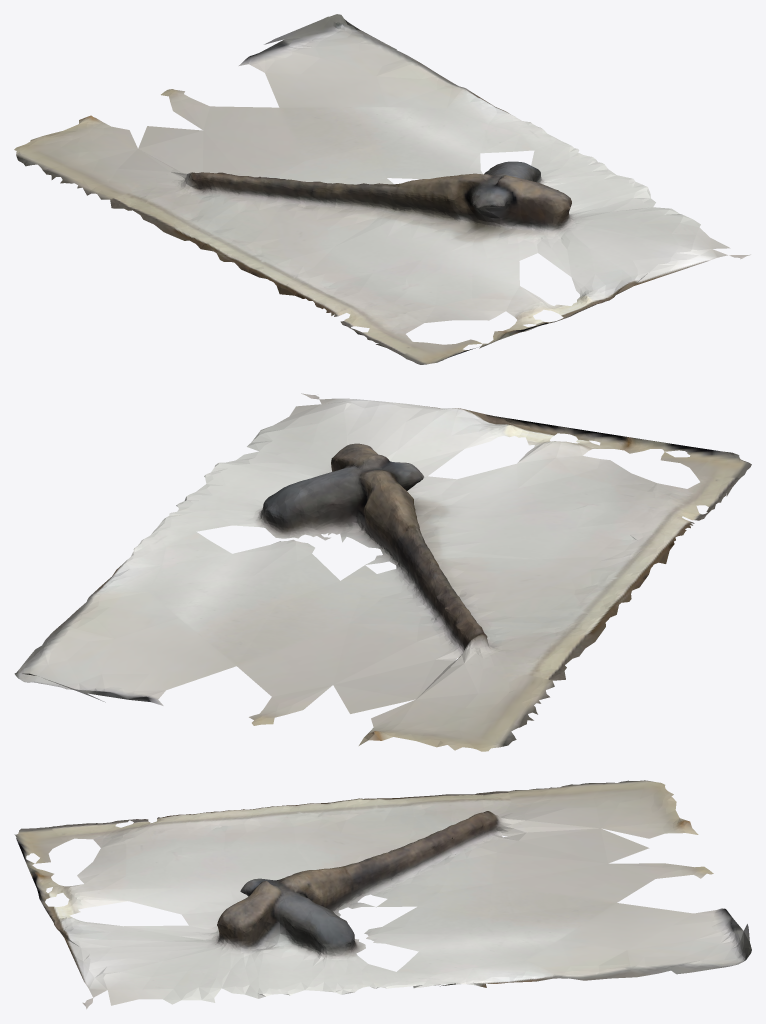
Rendered from etukiisiono.glb.
3 renders of one model, top to bottom at view 1: azimuth 30°, elevation 25°; view 2: azimuth 150°, elevation 25°; view 3: azimuth 270°, elevation 25°, orthographic. The views are drawn at different scales.
Visible parts, largest first — view 1: mesh; view 2: mesh; view 3: mesh.
Boxes of the visible parts, x1,y1,x2,y2 form: mesh: (14, 14, 750, 364); mesh: (14, 393, 751, 751); mesh: (14, 780, 751, 1009).
Bounding box in the file's own units: 0.722 × 0.0748 × 1.
1 material, 1 textured.
